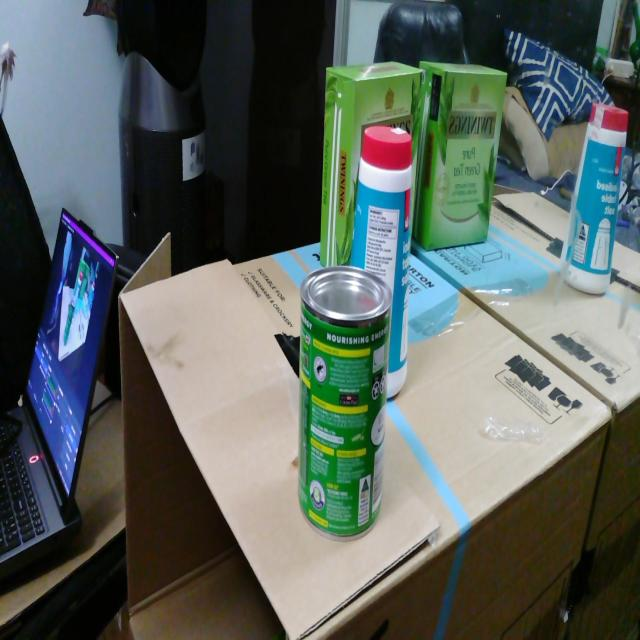nestle_milo_tin: (298, 265, 393, 541)
twinings_greentea_box: (320, 62, 424, 266)
woolworths_salt_bottle: (350, 126, 412, 399)
